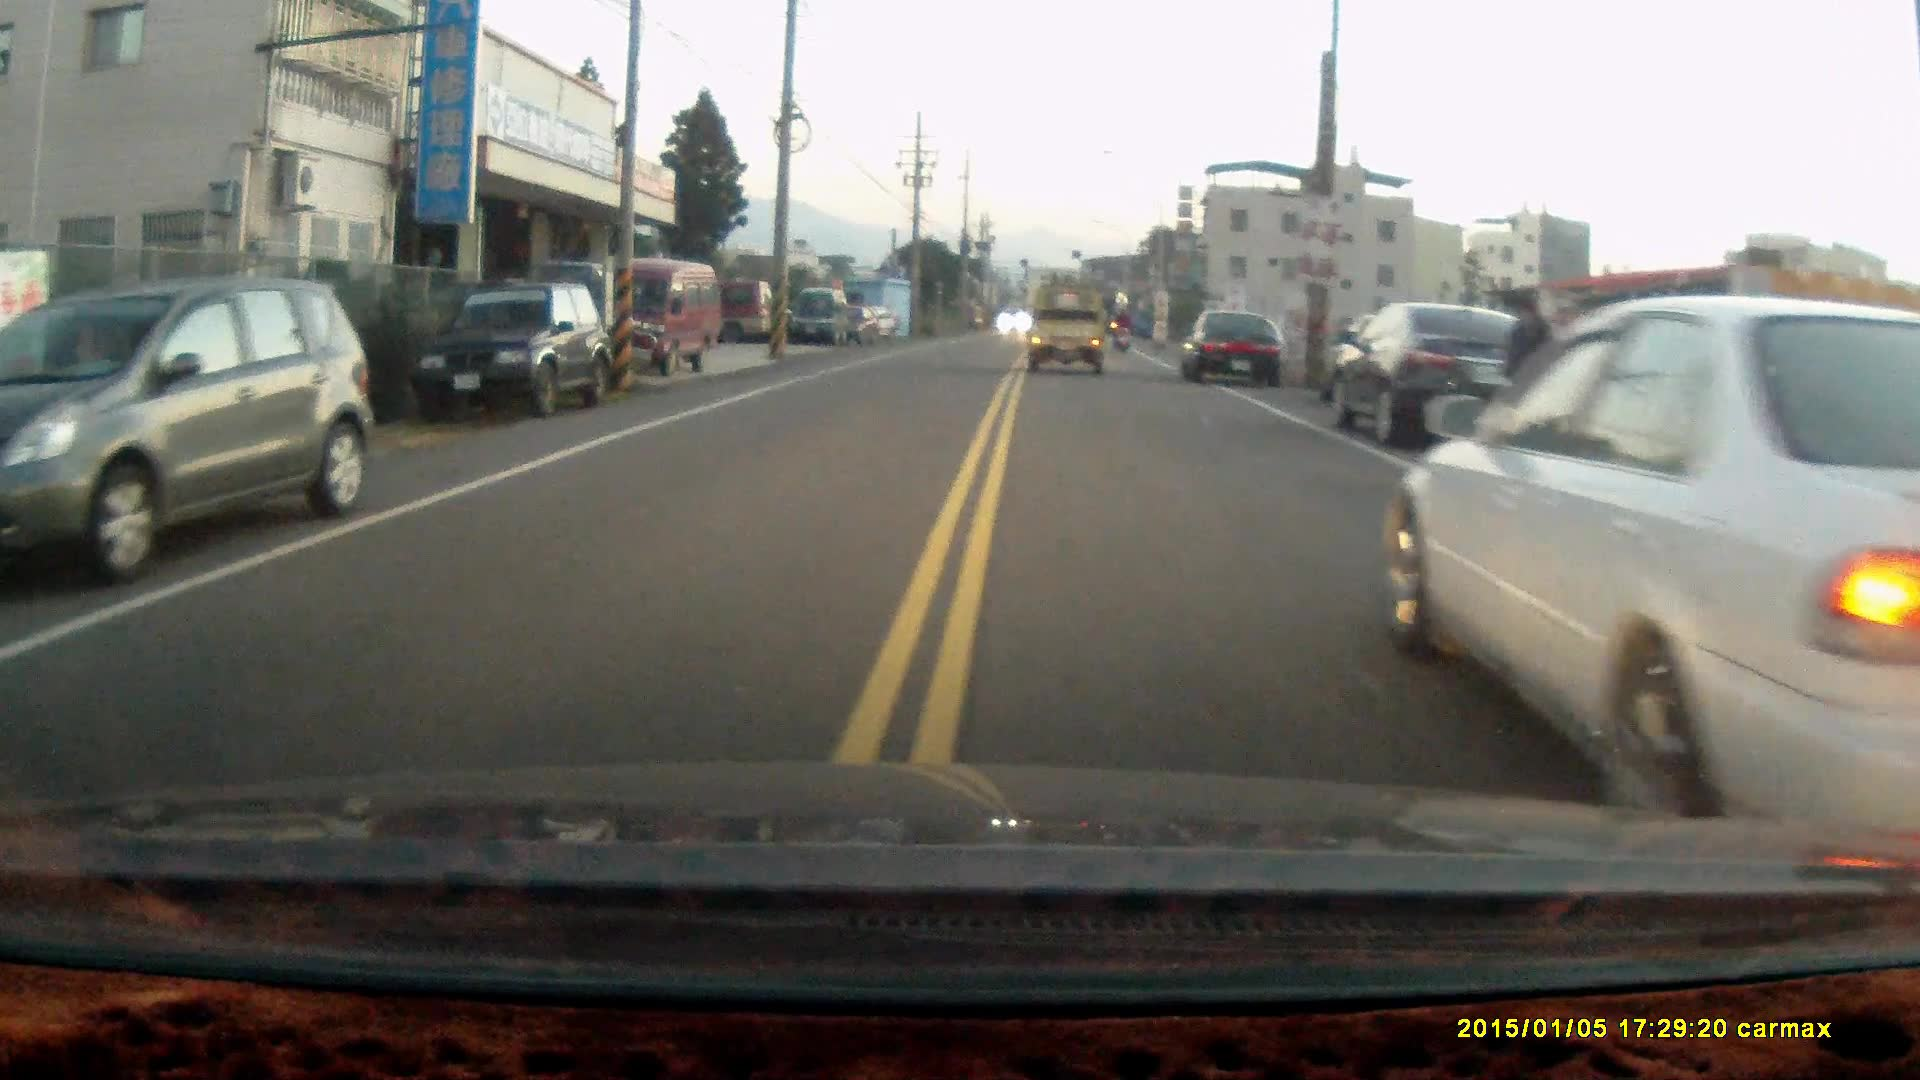pedestrian: (1495, 295, 1557, 456)
vehicle: (1386, 296, 1920, 827), (1, 281, 378, 591), (1332, 297, 1567, 452), (416, 278, 603, 420), (571, 256, 727, 378), (1182, 307, 1290, 384), (1027, 284, 1114, 368), (791, 287, 855, 344)
